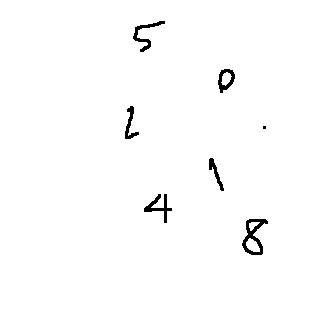.: (253, 122, 277, 137)
0: (214, 62, 241, 100)
1: (200, 154, 235, 195)
2: (111, 102, 148, 143)
4: (141, 191, 182, 233)
5: (127, 17, 170, 59)
8: (236, 215, 277, 260)
